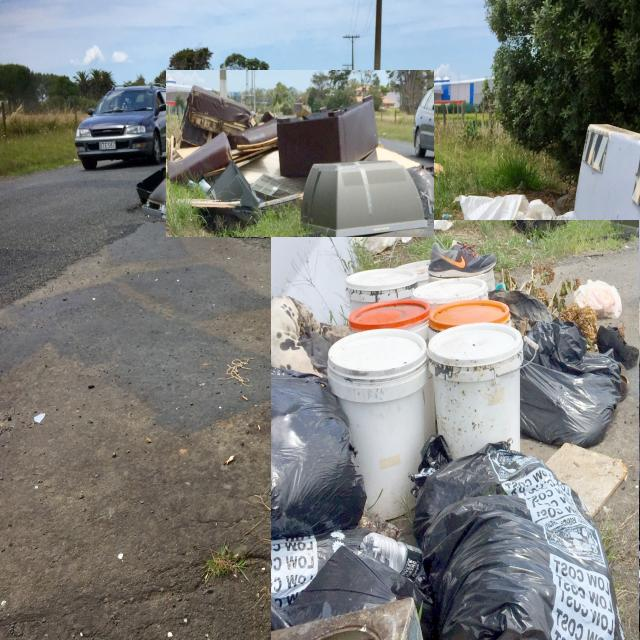dumping: (271, 220, 639, 640), (166, 70, 434, 237)
